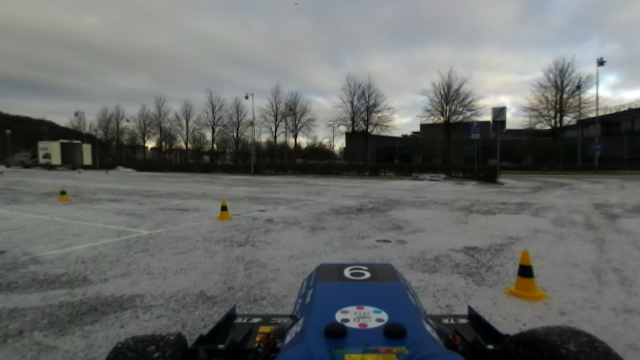yellow: (503, 246, 551, 302), (214, 199, 235, 223)
